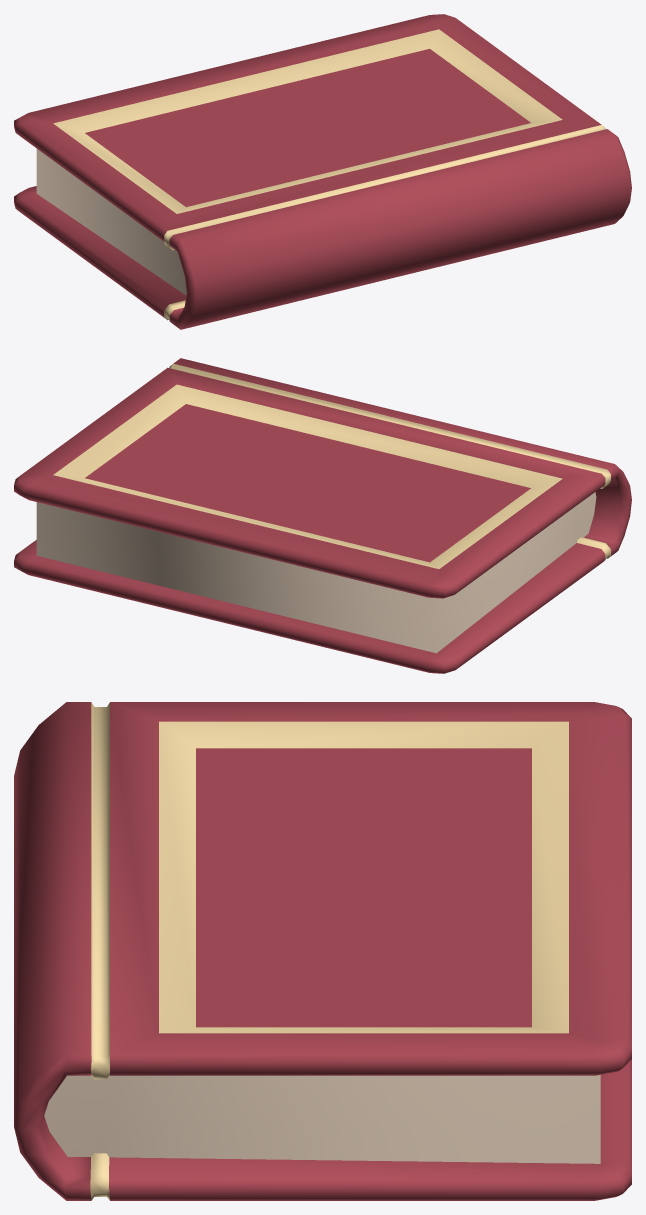
Rendered from book_red_2.fbx.
3 views of the same model, one above another, from view 1: azimuth 30°, elevation 25°; view 2: azimuth 150°, elevation 25°; view 3: azimuth 270°, elevation 25° (orthographic). The views are drawn at different scales.
Parts seen in each view (by area): view 1: Cube.001; view 2: Cube.001; view 3: Cube.001.
Boxes of the visible parts, x1,y1,x2,y2 form: Cube.001: (14,14,631,329); Cube.001: (14,358,631,673); Cube.001: (14,702,631,1200).
Bounding box in the file's own units: 91.83 × 17.78 × 67.28.
1 material, 1 textured.
